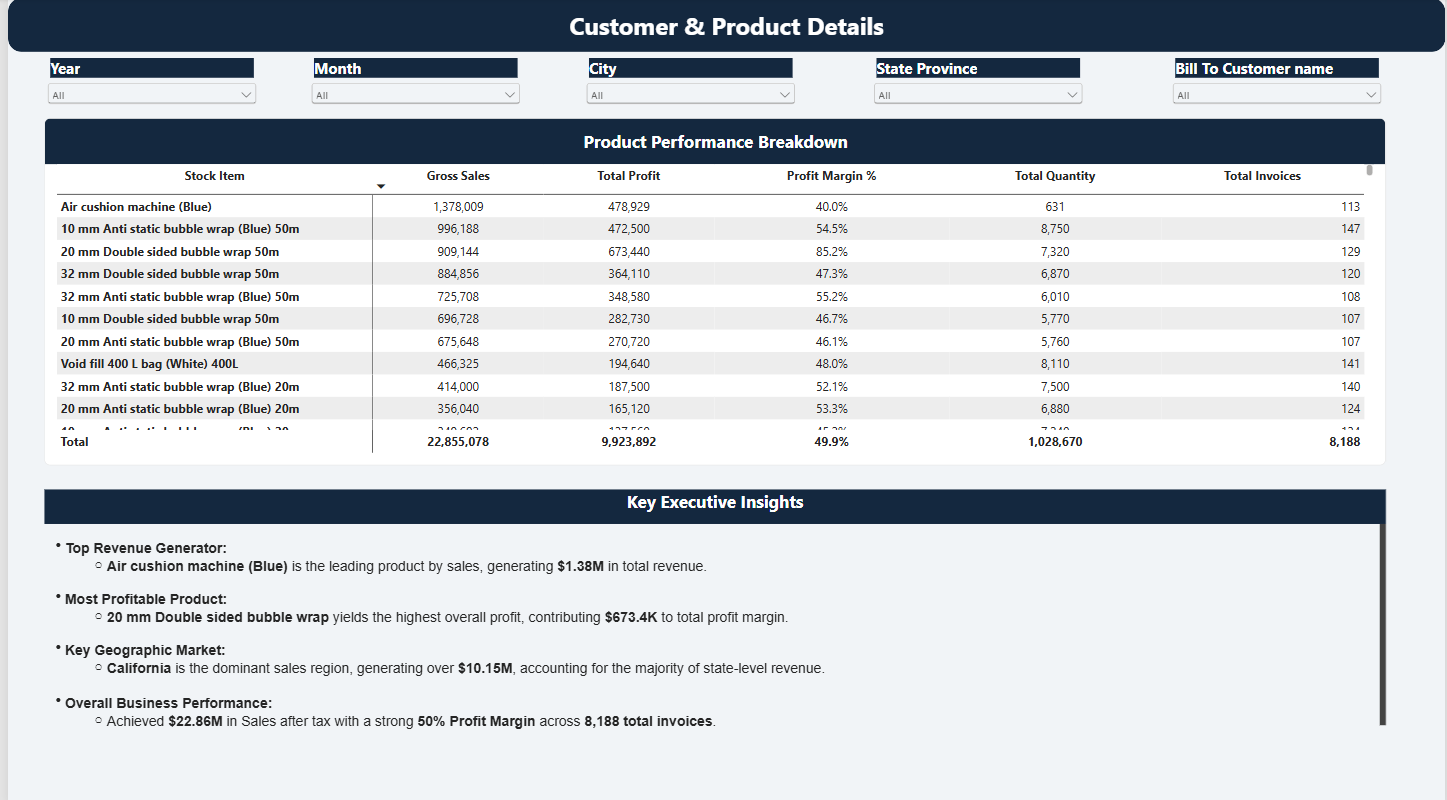

This screenshot's page, from the dashboard's own definition file:
{"tool":"powerbi","page":{"name":"Customer & Product Details","canvas":[1920,1080],"ordinal":2},"visuals":[{"type":"shape","box":[0,0,1920,72],"z":0},{"type":"slicer","fields":{"Values":["Dim-Date.Date.Variation.Date Hierarchy.Year"]},"box":[48,80,288,64],"z":1000},{"type":"slicer","fields":{"Values":["Dim-Date.Date.Variation.Date Hierarchy.Month"]},"box":[400,80,288,64],"z":2000},{"type":"slicer","fields":{"Values":["Dim-City.City"]},"box":[768,80,288,64],"z":3000},{"type":"slicer","fields":{"Values":["Dim-City.State Province"]},"box":[1152,80,288,64],"z":4000},{"type":"slicer","fields":{"Values":["Dim-Customer.Bill To Customer name"]},"box":[1552,80,288,64],"z":5000},{"type":"pivotTable","title":"Product Performance Breakdown","fields":{"Rows":["Dim-StockItem.Stock Item"],"Values":["DAX.Total Sales after Tax","DAX.Total Profit","DAX.Profit Margin %","DAX.Total Quantity","DAX.Total Invoices"]},"box":[48,160,1792,464],"z":6000},{"type":"textbox","title":"Key Executive Insights","box":[48,656,1792,336],"z":7000}]}

Visuals, with their boxes in screenshot pixels (x1, y1, x2, y2), scaled from the page's 1920x1080 canvas onto the 1447x800 screenshot:
shape: (left=0, top=0, right=1446, bottom=53)
slicer - Dim-Date.Date.Variation.Date Hierarchy.Year: (left=36, top=59, right=253, bottom=107)
slicer - Dim-Date.Date.Variation.Date Hierarchy.Month: (left=301, top=59, right=519, bottom=107)
slicer - Dim-City.City: (left=579, top=59, right=796, bottom=107)
slicer - Dim-City.State Province: (left=868, top=59, right=1085, bottom=107)
slicer - Dim-Customer.Bill To Customer name: (left=1170, top=59, right=1387, bottom=107)
"Product Performance Breakdown" pivotTable: (left=36, top=119, right=1387, bottom=462)
"Key Executive Insights" textbox: (left=36, top=486, right=1387, bottom=735)
